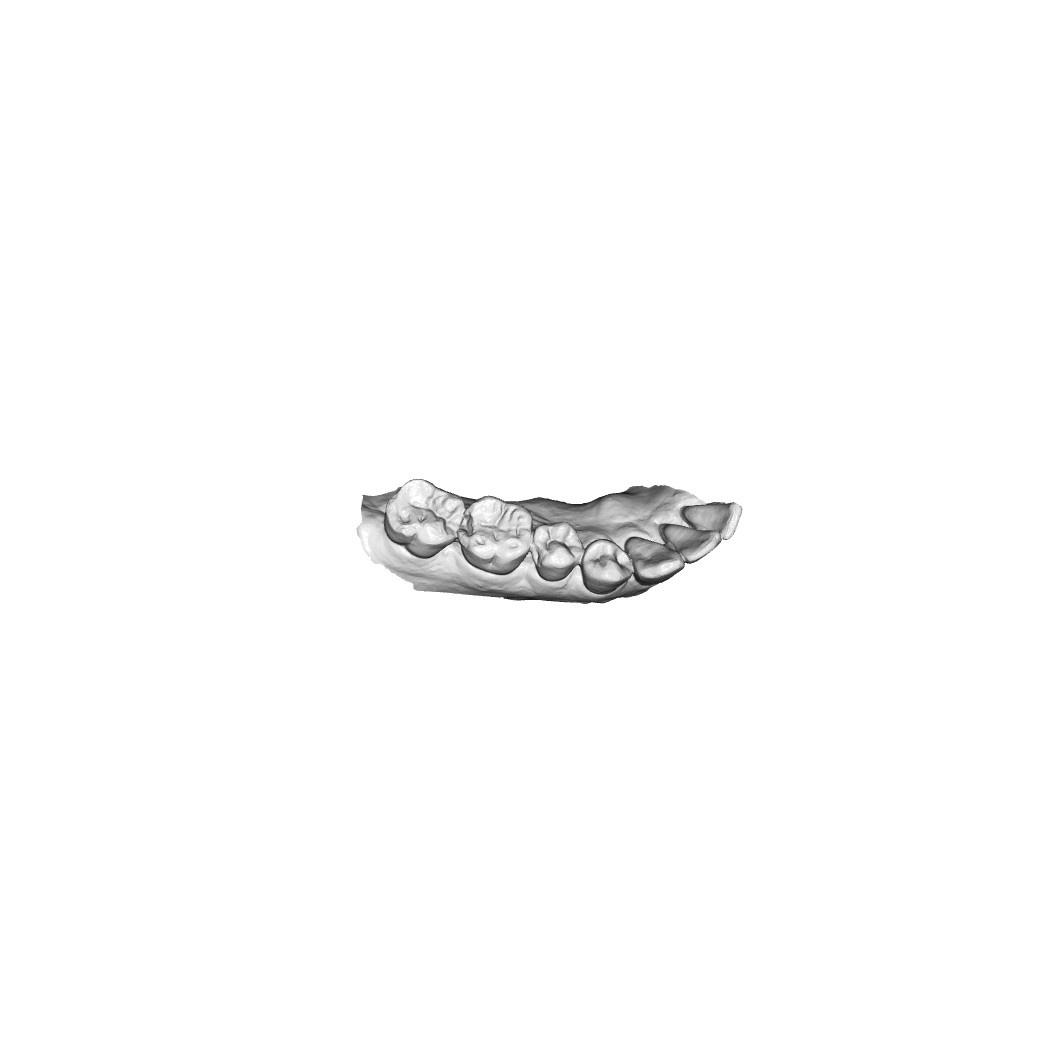canine: (625, 531, 684, 588)
incisor: (661, 523, 725, 565), (677, 498, 741, 540)
molar: (383, 472, 465, 560), (458, 491, 532, 576)
premolar: (579, 538, 638, 602), (529, 520, 585, 582)
